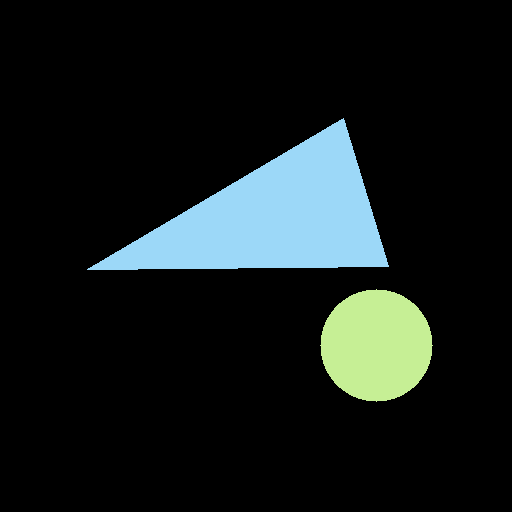circle: (320, 289, 432, 401)
triangle: (87, 118, 388, 269)
